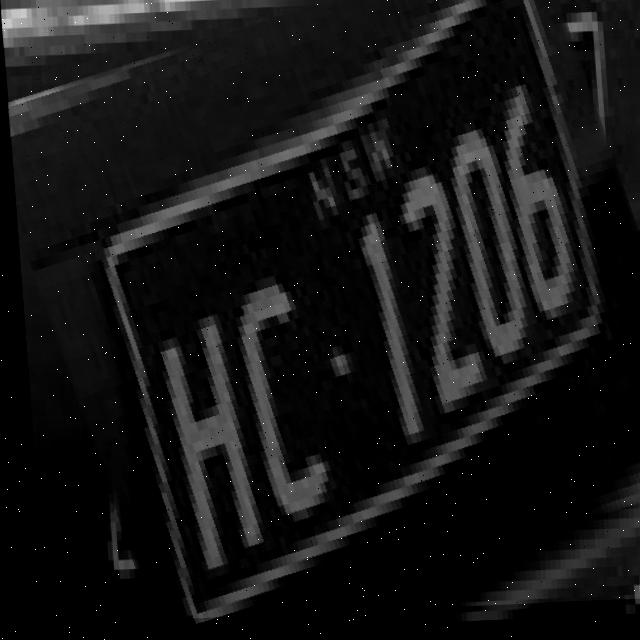LicensePlate: (1, 0, 640, 625)
